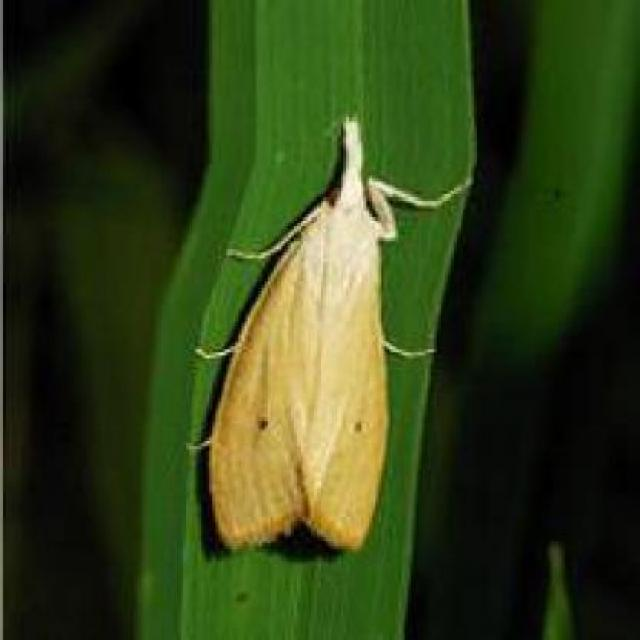stem-borer: (183, 116, 472, 558)
